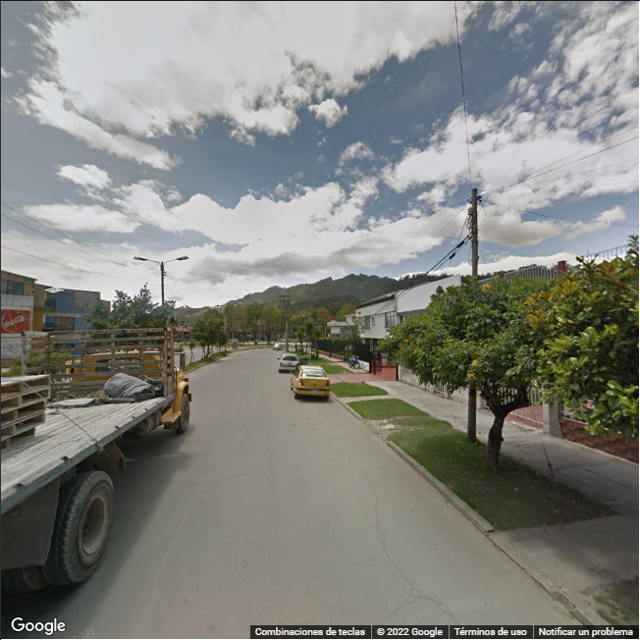D00: (360, 467, 420, 595)
D10: (379, 593, 415, 629)
